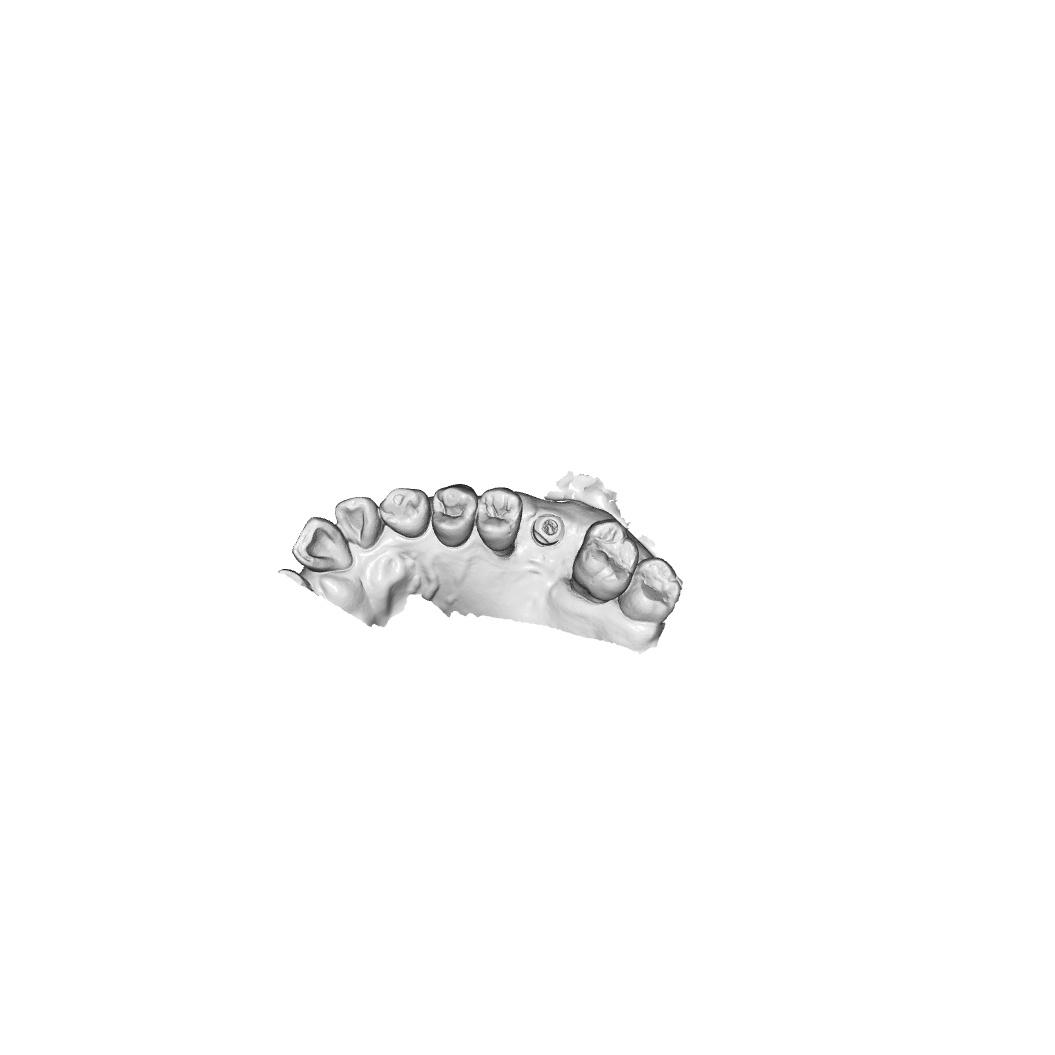canine: (378, 486, 432, 540)
implant: (531, 512, 567, 548)
incisor: (291, 515, 354, 574), (332, 494, 383, 551)
molar: (571, 519, 640, 605), (617, 556, 684, 624)
premolar: (474, 486, 524, 557), (431, 483, 479, 549)
